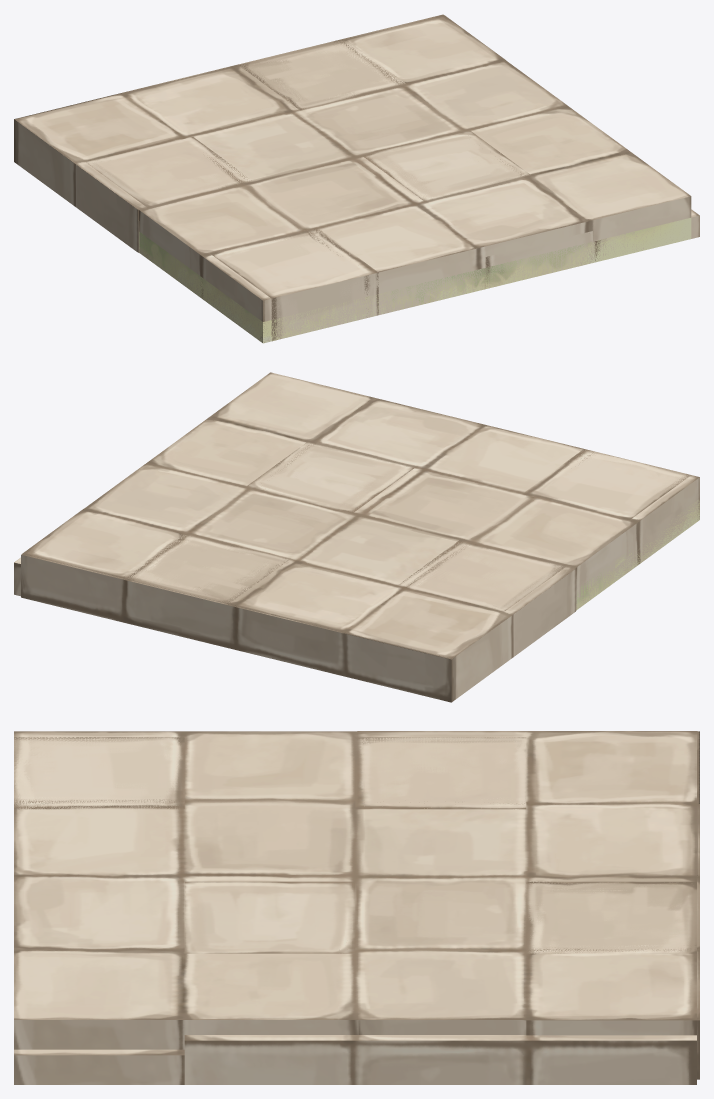
The model's file is tiles.fbx.
3 renders of one model, top to bottom at view 1: azimuth 30°, elevation 25°; view 2: azimuth 150°, elevation 25°; view 3: azimuth 270°, elevation 25°, orthographic. The views are drawn at different scales.
Parts seen in each view (by area): view 1: tiles02, tiles06, tiles03, tiles04, tiles01; view 2: tiles02, tiles06, tiles04, tiles01; view 3: tiles02, tiles06, tiles04, tiles05.
Part boxes in pixels (x1,y1,x2,y2): tiles02: (16, 15, 691, 342); tiles06: (86, 39, 699, 341); tiles03: (15, 67, 691, 343); tiles04: (14, 14, 443, 251); tiles01: (139, 218, 690, 342); tiles02: (23, 372, 699, 658); tiles06: (14, 442, 690, 610); tiles04: (21, 554, 575, 702); tiles01: (576, 500, 699, 609); tiles02: (14, 731, 696, 1049); tiles06: (14, 737, 696, 1084); tiles04: (358, 731, 699, 1079); tiles05: (526, 1020, 696, 1035).
Size of the model in its own units: 204 by 19.16 by 201.
